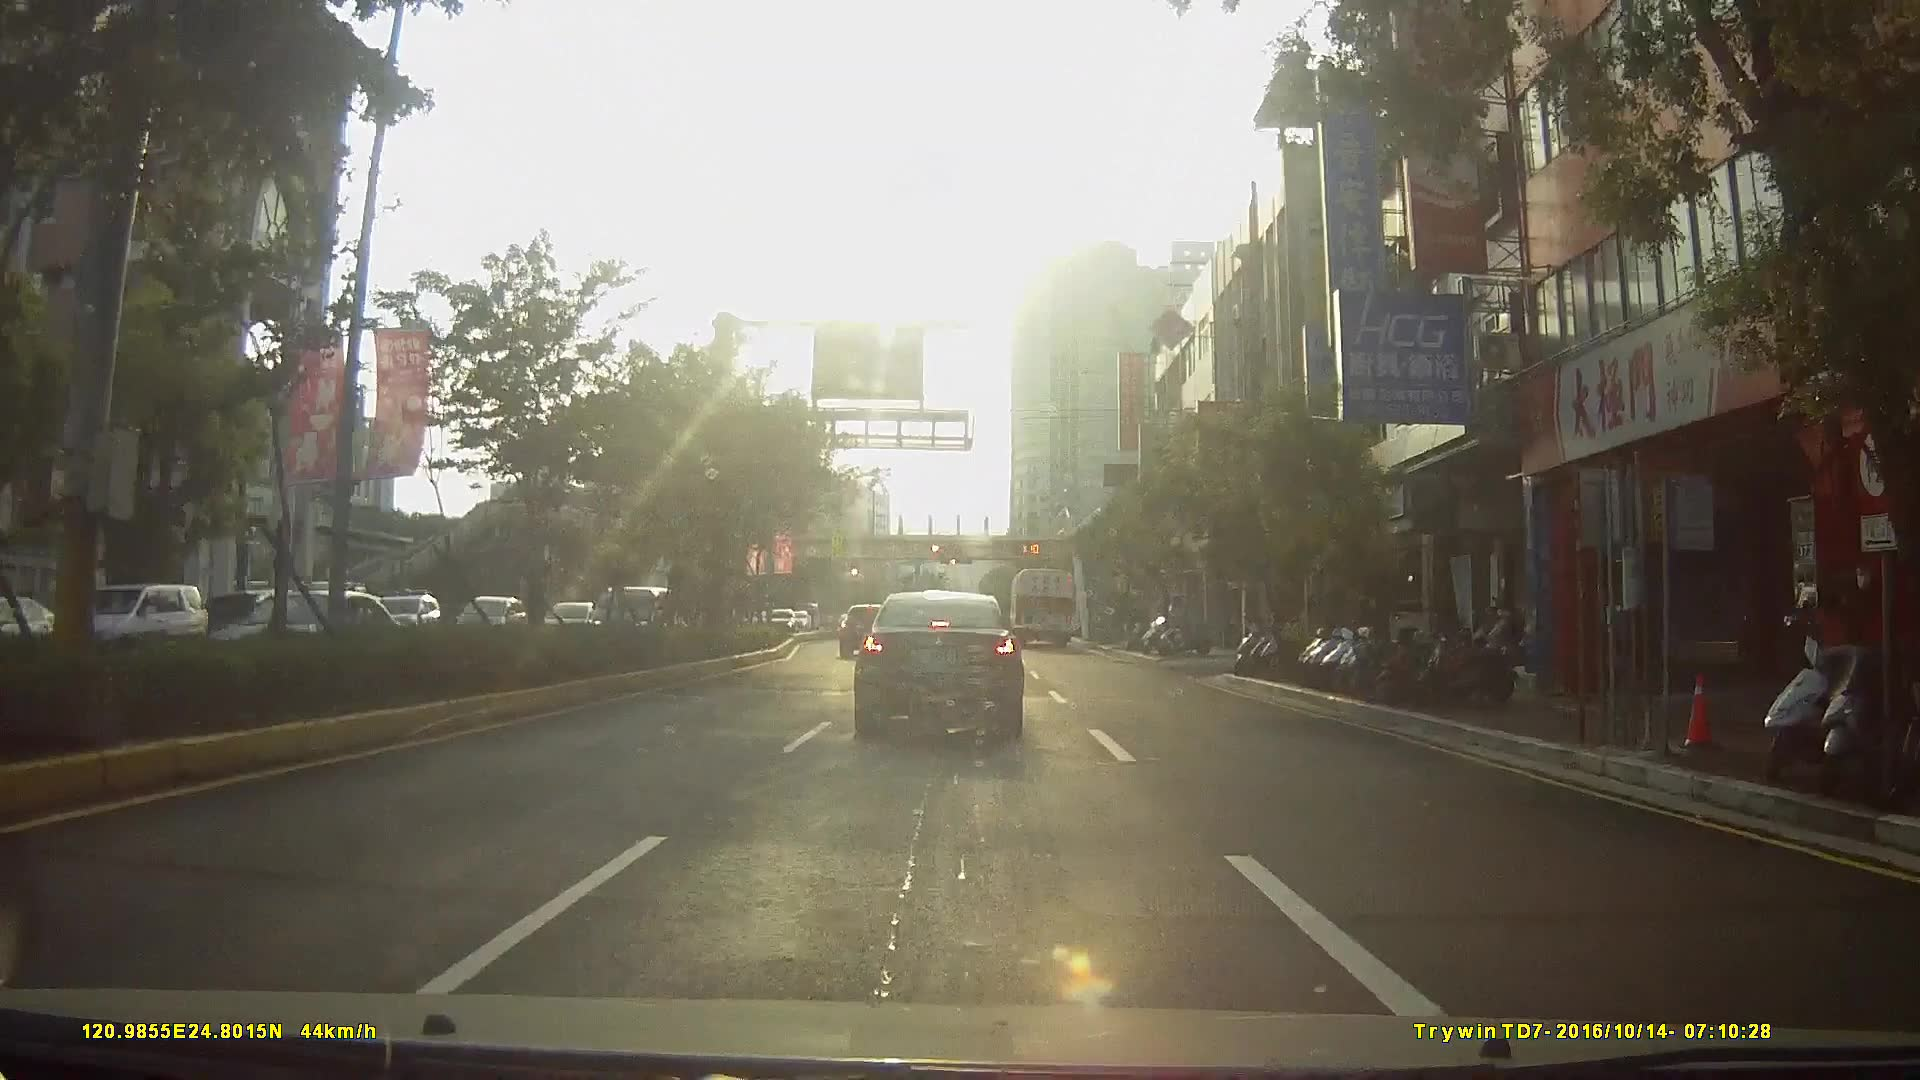vehicle: (852, 591, 1025, 744), (61, 584, 200, 658), (195, 589, 307, 654), (1007, 567, 1080, 651), (595, 588, 690, 647), (836, 604, 891, 659)
